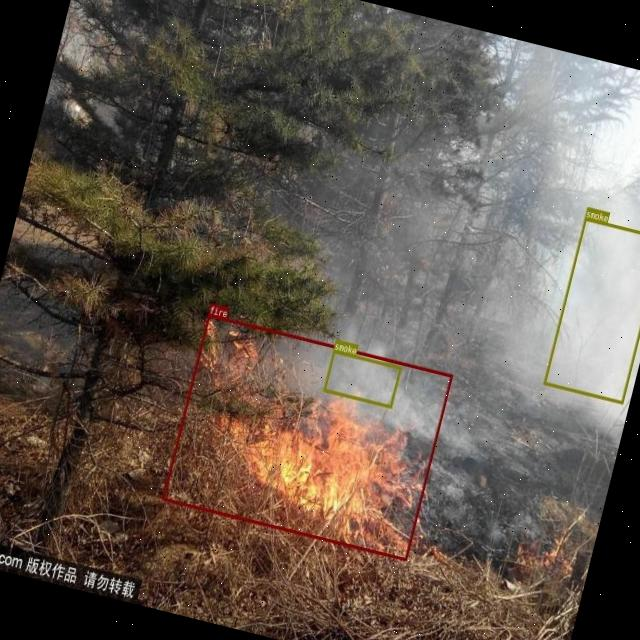fire: (161, 312, 452, 560)
smoke: (542, 216, 640, 403), (322, 349, 401, 408)
